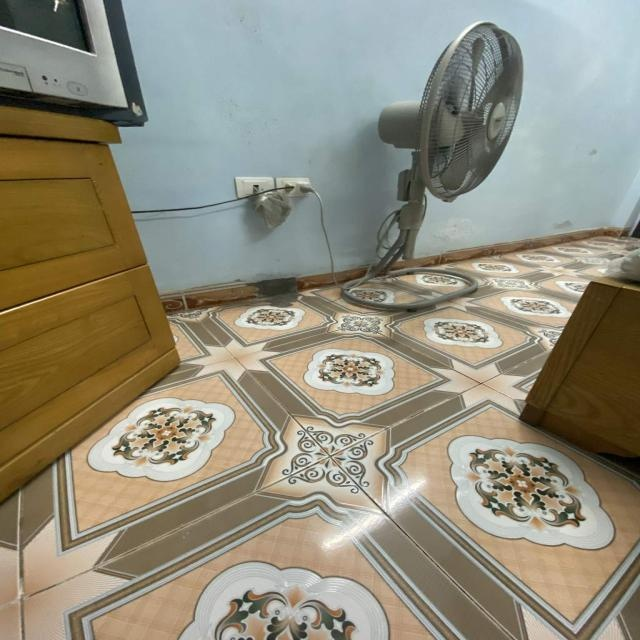outlet: (234, 177, 274, 199), (276, 177, 311, 197)
